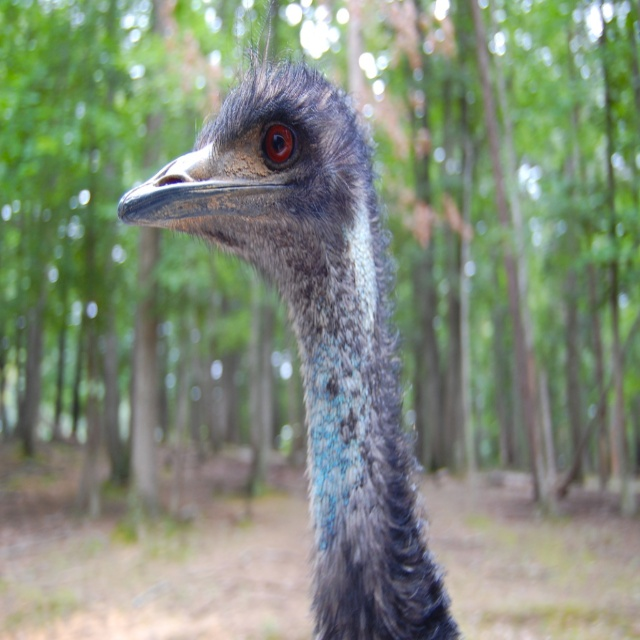Ostrich: (117, 0, 466, 640)
